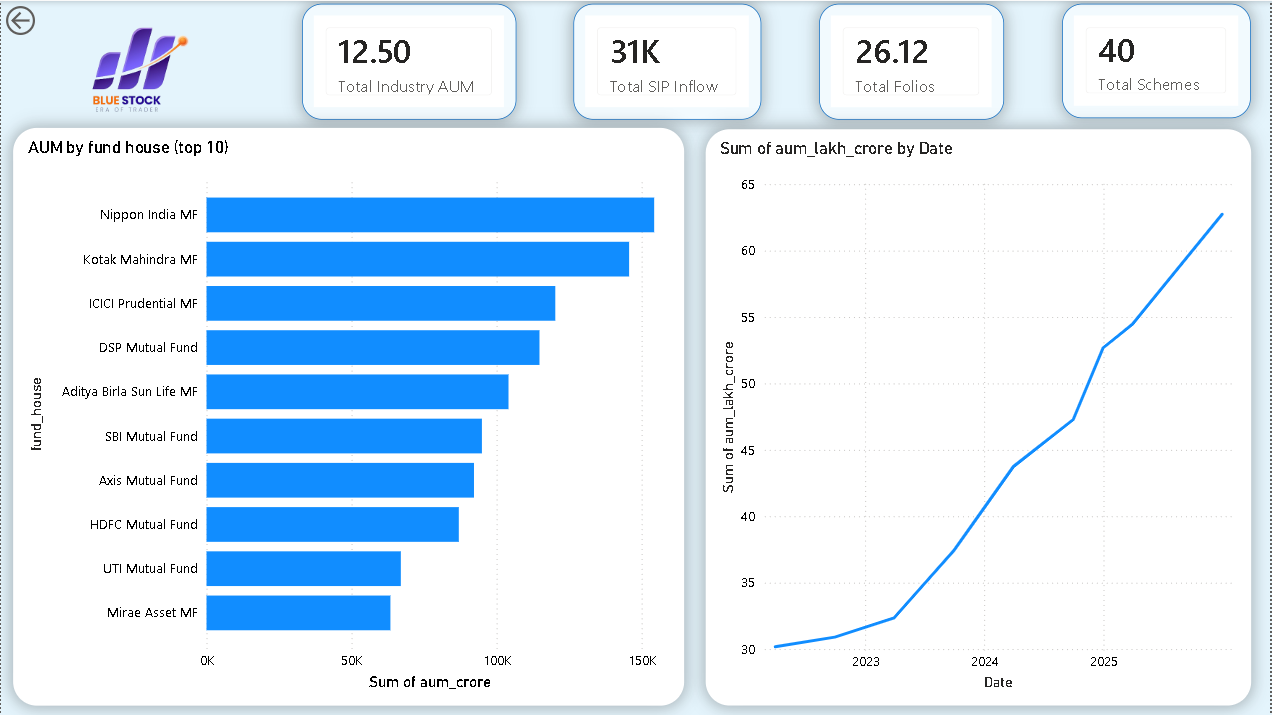

The dashboard page shown, as its layout file describes it:
{"tool":"powerbi","page":{"name":"Industry Overview","canvas":[1280,720],"ordinal":0},"visuals":[{"type":"cardVisual","fields":{"Data":["03_aum_by_fund_house.Total Industry AUM"]},"box":[303.8,2.7,216.6,117.1],"z":0},{"type":"cardVisual","fields":{"Data":["04_monthly_sip_inflows.Total SIP Inflow"]},"box":[577.5,2.7,189.3,117.1],"z":1000},{"type":"cardVisual","fields":{"Data":["06_industry_folio_count.Total Folios"]},"box":[825.5,2.7,186.6,117.1],"z":2000},{"type":"cardVisual","fields":{"Data":["01_fund_master.Total Schemes"]},"box":[1070.6,2.7,190.7,115.8],"z":3000},{"type":"lineChart","fields":{"Y":["Sum(03_aum_by_fund_house.aum_lakh_crore)"],"Category":["Date1.Date"]},"box":[711,129.4,550.3,581.6],"z":4000},{"type":"barChart","title":"AUM by fund house (top 10)","fields":{"Category":["clean_performance.fund_house"],"Y":["Sum(clean_performance.aum_crore)"]},"box":[12.3,128,677,583],"z":5000},{"type":"actionButton","box":[0,0,100,40],"z":6000},{"type":"image","box":[0,0,264.3,145.7],"z":7000}]}

Visuals, with their boxes in screenshot pixels (x1, y1, x2, y2), scaled from the page's 1280x720 canvas onto the 1272x715 screenshot:
cardVisual - 03_aum_by_fund_house.Total Industry AUM: <bbox>302, 3, 517, 119</bbox>
cardVisual - 04_monthly_sip_inflows.Total SIP Inflow: <bbox>574, 3, 762, 119</bbox>
cardVisual - 06_industry_folio_count.Total Folios: <bbox>820, 3, 1006, 119</bbox>
cardVisual - 01_fund_master.Total Schemes: <bbox>1064, 3, 1253, 118</bbox>
lineChart - Sum(03_aum_by_fund_house.aum_lakh_crore) x Date1.Date: <bbox>707, 129, 1253, 706</bbox>
"AUM by fund house (top 10)" barChart: <bbox>12, 127, 685, 706</bbox>
actionButton: <bbox>0, 0, 99, 40</bbox>
image: <bbox>0, 0, 263, 145</bbox>
